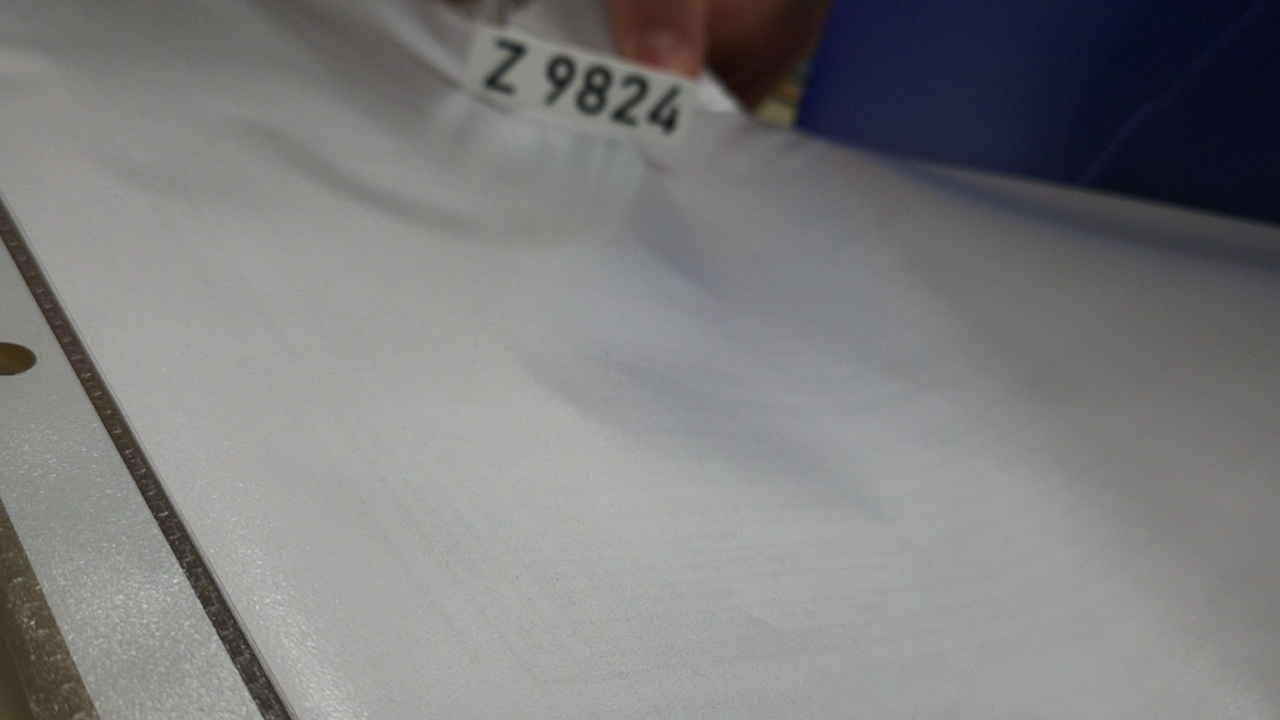license_plate: (463, 19, 705, 153)
